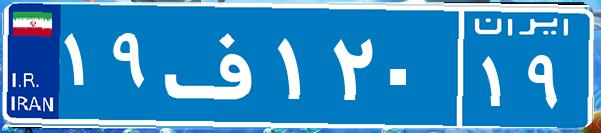0: (385, 28, 445, 110)
1: (273, 28, 330, 110), (57, 26, 110, 107), (475, 38, 525, 113)
2: (330, 28, 385, 110)
9: (110, 28, 158, 105), (525, 38, 570, 115)
ف: (158, 15, 273, 115)
